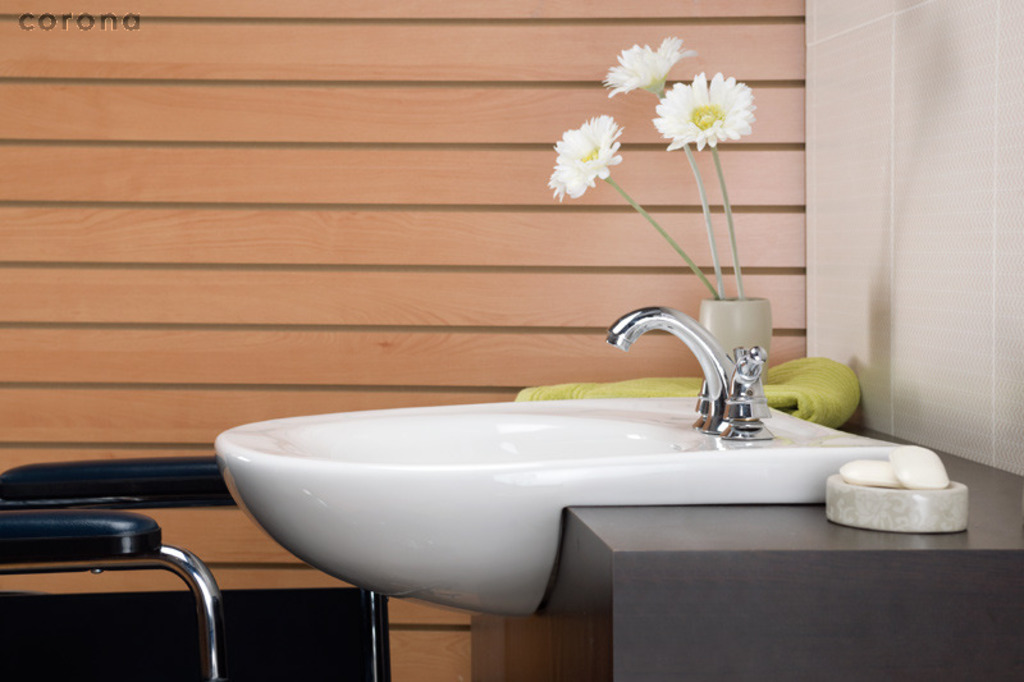tap: (601, 301, 737, 433)
